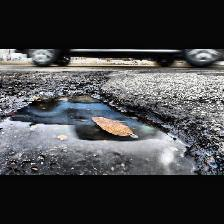pothole: (0, 69, 222, 174)
